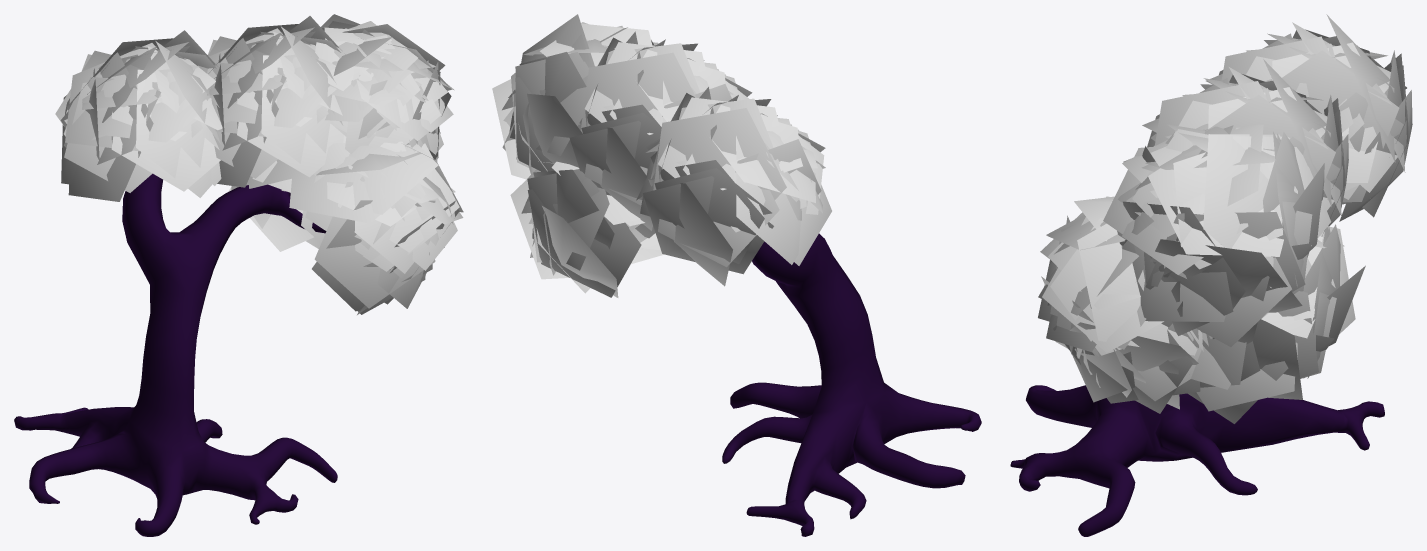
The model's file is Tree03_2 - Copy.fbx.
3 renders of one model, left to right at view 1: azimuth 30°, elevation 25°; view 2: azimuth 150°, elevation 25°; view 3: azimuth 270°, elevation 25°, orthographic. The views are drawn at different scales.
Parts seen in each view (by area): view 1: Cube.001, Circle.163, Circle.164, Circle.068, Circle.138, Circle.167, Circle.129, Circle.107, Icosphere.004|Circle|Dupli|52, Icosphere.001|Circle|Dupli|52, Circle.002, Circle.131 (+43 smaller); view 2: Cube.001, Icosphere.003|Circle|Dupli|10, Circle.041, Icosphere.003|Circle|Dupli|60, Icosphere.001|Circle|Dupli|10, Circle.128, Circle.091, Icosphere.001|Circle|Dupli|60, Icosphere.003|Circle|Dupli|40, Icosphere|Circle|Dupli|60, Circle.089, Circle.021 (+35 smaller); view 3: Cube.001, Circle.146, Circle.006, Icosphere.003|Circle|Dupli|68, Icosphere|Circle|Dupli|68, Icosphere|Circle|Dupli|, Icosphere.001|Circle|Dupli|68, Icosphere|Circle|Dupli|14, Icosphere|Circle|Dupli|30, Circle.070, Icosphere.002|Circle|Dupli|30, Icosphere|Circle|Dupli|10 (+63 smaller).
Boxes of the visible parts, box(x1,y1,x2,y2) form: Cube.001: box(14, 173, 337, 536); Circle.163: box(349, 144, 438, 214); Circle.164: box(289, 156, 379, 223); Circle.068: box(261, 55, 329, 176); Circle.138: box(136, 70, 200, 196); Circle.167: box(314, 182, 435, 308); Circle.129: box(68, 116, 153, 201); Circle.107: box(69, 43, 185, 151); Icosphere.004|Circle|Dupli|52: box(316, 251, 434, 308); Icosphere.001|Circle|Dupli|52: box(237, 122, 343, 177); Circle.002: box(324, 27, 447, 123); Circle.131: box(64, 83, 152, 192); Cube.001: box(722, 233, 981, 536); Icosphere.003|Circle|Dupli|10: box(653, 108, 786, 199); Circle.041: box(589, 53, 696, 111); Icosphere.003|Circle|Dupli|60: box(648, 179, 732, 286); Icosphere.001|Circle|Dupli|10: box(580, 52, 672, 133); Circle.128: box(736, 124, 800, 264); Circle.091: box(527, 178, 641, 267); Icosphere.001|Circle|Dupli|60: box(580, 127, 652, 230); Icosphere.003|Circle|Dupli|40: box(643, 176, 711, 262); Icosphere|Circle|Dupli|60: box(527, 93, 581, 167); Circle.089: box(541, 169, 614, 249); Circle.021: box(515, 61, 588, 171); Cube.001: box(1010, 385, 1384, 536); Circle.146: box(1077, 223, 1197, 355); Circle.006: box(1203, 134, 1280, 264); Icosphere.003|Circle|Dupli|68: box(1282, 50, 1399, 202); Icosphere|Circle|Dupli|68: box(1150, 239, 1302, 312); Icosphere|Circle|Dupli|: box(1117, 232, 1225, 321); Icosphere.001|Circle|Dupli|68: box(1215, 95, 1335, 180); Icosphere|Circle|Dupli|14: box(1149, 177, 1283, 256); Icosphere|Circle|Dupli|30: box(1196, 257, 1291, 346); Circle.070: box(1205, 95, 1333, 174); Icosphere.002|Circle|Dupli|30: box(1196, 369, 1294, 411); Icosphere|Circle|Dupli|10: box(1204, 135, 1273, 287).
Size of the model in its own units: 8.73 by 7.87 by 6.07.
